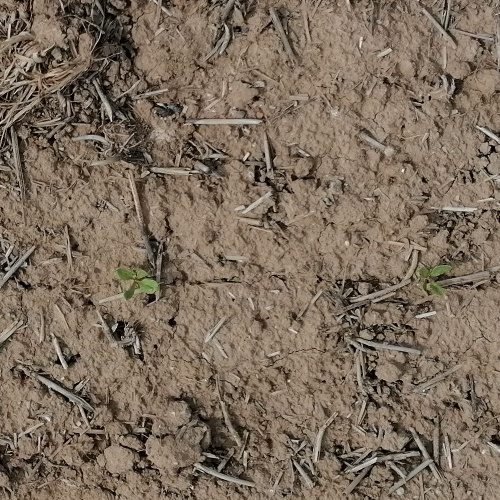beet: (115, 265, 158, 302), (418, 266, 450, 298)
